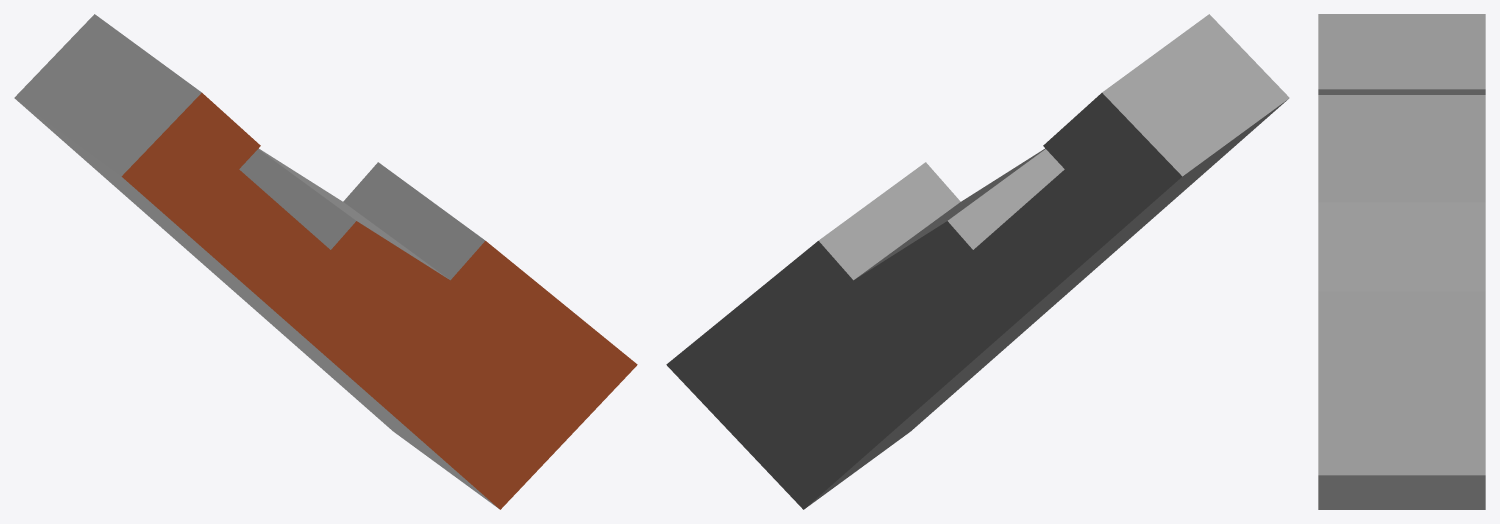
Rendered from construction_7043_assumed_A_Casa_h6m.obj.
The picture shows the model from 3 angles, left to right: view 1: azimuth 30°, elevation 25°; view 2: azimuth 150°, elevation 25°; view 3: azimuth 270°, elevation 25°; orthographic projection. The views are drawn at different scales.
Parts seen in each view (by area): view 1: construction_7043_assumed_A_Casa; view 2: construction_7043_assumed_A_Casa; view 3: construction_7043_assumed_A_Casa.
Part boxes in pixels (x1,y1,x2,y2): construction_7043_assumed_A_Casa: (14,14,637,509); construction_7043_assumed_A_Casa: (666,14,1289,509); construction_7043_assumed_A_Casa: (1318,14,1485,509).
Bounding box in the file's own units: 16.66 × 15.11 × 6.
